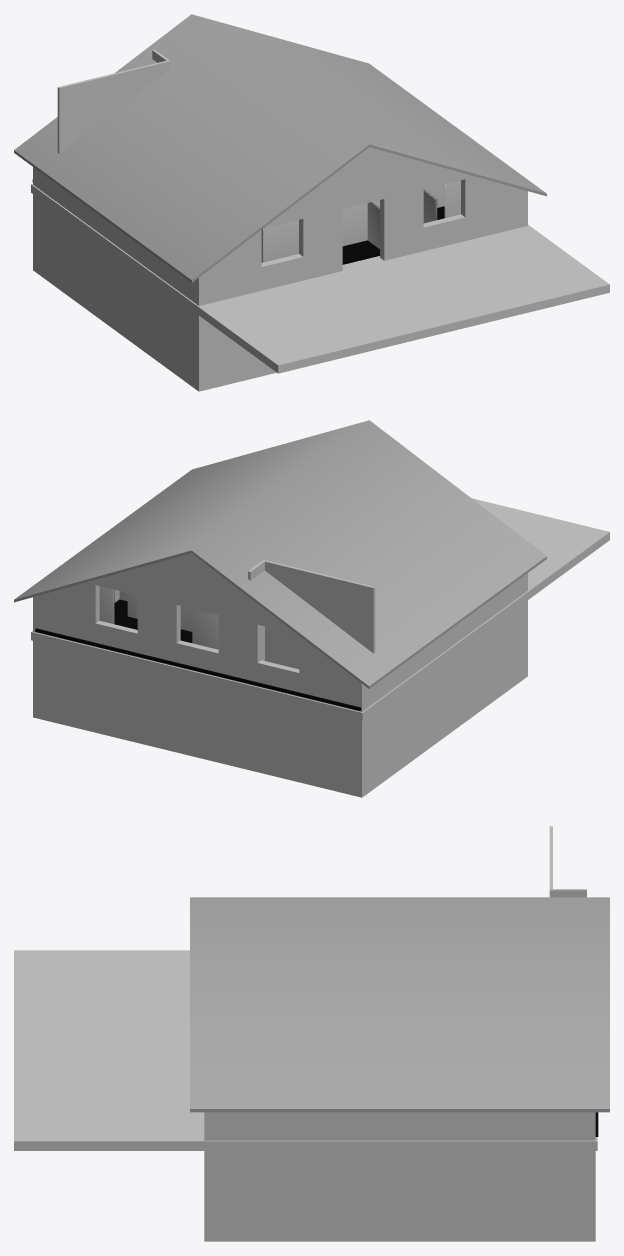
File: CursoPlantaSuperiorLaberinto.fbx
3 renders of one model, top to bottom at view 1: azimuth 30°, elevation 25°; view 2: azimuth 150°, elevation 25°; view 3: azimuth 270°, elevation 25°, orthographic. The views are drawn at different scales.
Visible parts, largest first — view 1: pCube8, polySurface14, pCube84, pCube117, pCube147, pCube119, pCube148, pCube155; view 2: polySurface14, pCube8, pCube84, pCube117, pCube119, pCube124, pCube125; view 3: pCube8, polySurface14, pCube84.
Boxes of the visible parts, x1,y1,x2,y2 form: pCube8: (14, 14, 546, 282); polySurface14: (33, 147, 527, 391); pCube84: (31, 184, 609, 373); pCube117: (57, 60, 168, 153); pCube147: (263, 200, 379, 262); pCube119: (32, 179, 444, 264); pCube148: (444, 180, 460, 217); pCube155: (367, 202, 379, 248); polySurface14: (33, 553, 527, 797); pCube8: (14, 420, 546, 688); pCube84: (31, 498, 609, 720); pCube117: (264, 560, 375, 669); pCube119: (35, 599, 361, 710); pCube124: (192, 609, 218, 649); pCube125: (99, 586, 114, 624); pCube8: (190, 897, 609, 1112); polySurface14: (204, 1112, 595, 1241); pCube84: (14, 950, 597, 1150).
Bounding box in the file's own units: 136 × 77.42 × 167.
